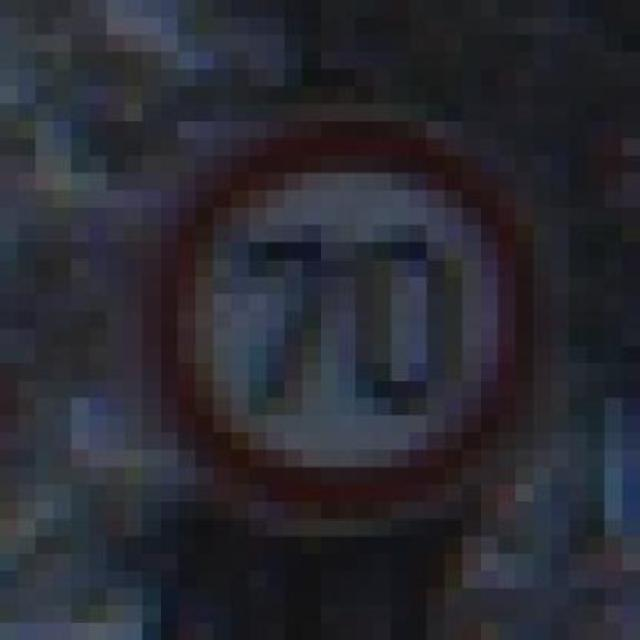forb_speed_over_70: (153, 132, 544, 509)
